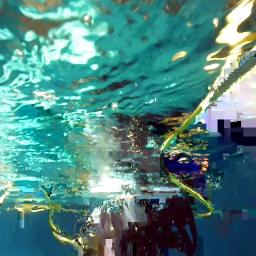Side: (76, 199, 200, 256)
